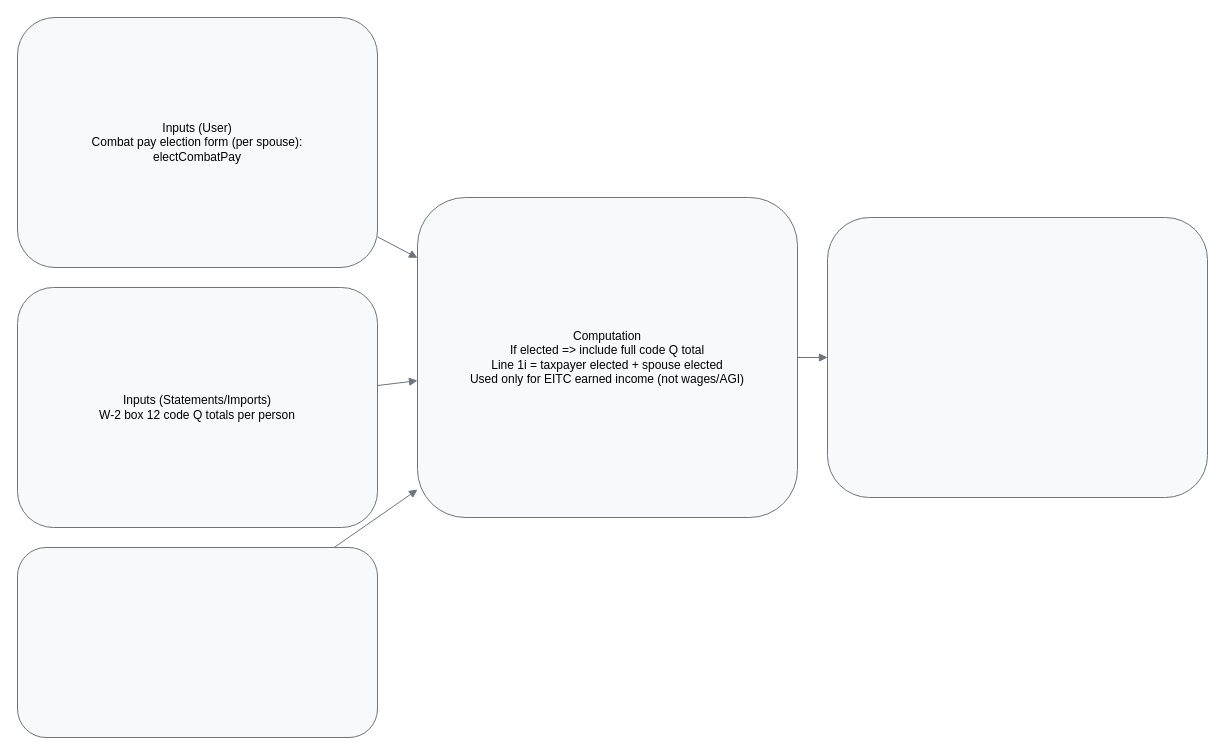
This 1225x755 diagram has some shape labels left out. Here are the shapes that lost their labels. From the top down, the centre of each, then its label:
At pixel 1017 357: "Outputs Form 1040 line 1i EITC earned income input (engine)".
At pixel 197 642: "Reference/Derived Inputs None".
